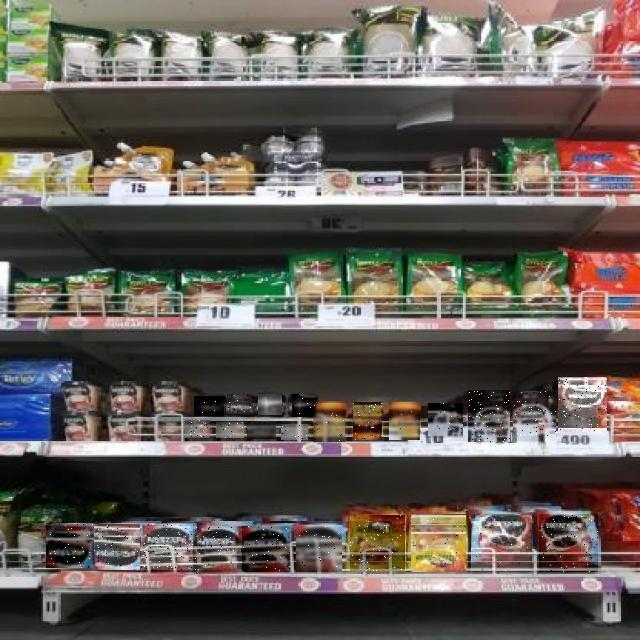Coffee: (471, 514, 532, 574), (539, 514, 598, 572), (411, 514, 466, 572), (350, 515, 405, 571), (558, 378, 607, 432), (141, 525, 193, 571), (242, 526, 290, 572), (468, 390, 510, 442), (95, 524, 141, 570), (296, 526, 342, 572), (46, 524, 94, 568), (513, 392, 556, 440), (195, 527, 235, 571), (428, 404, 463, 440), (313, 403, 345, 442), (389, 403, 420, 441), (353, 403, 382, 441), (194, 396, 224, 416), (292, 394, 316, 417), (258, 394, 282, 415), (226, 395, 252, 414), (248, 423, 278, 439), (186, 420, 212, 438), (216, 422, 244, 438), (281, 425, 308, 441)
